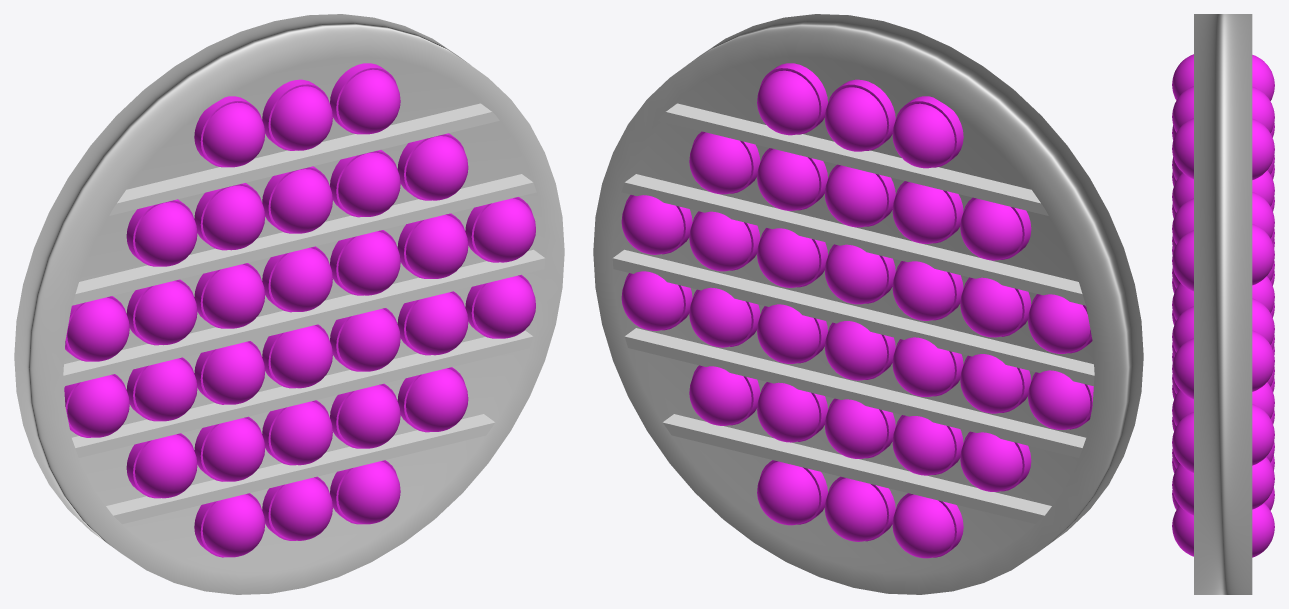
3 views of the same model, side by side, from view 1: azimuth 30°, elevation 25°; view 2: azimuth 150°, elevation 25°; view 3: azimuth 270°, elevation 25° (orthographic). The views are drawn at different scales.
Visible parts, largest first — view 1: Cylinder, Cube.023, Cube.024, Cube.026, Cube.025, Cube.027, Sphere.219, Sphere.225, Sphere.226, Sphere.222, Sphere.221, Sphere.220 (+27 smaller); view 2: Cylinder, Cube.026, Cube.024, Cube.023, Cube.027, Cube.025, Sphere.278, Sphere.277, Sphere.276, Sphere.250, Sphere.251, Sphere.249 (+27 smaller); view 3: Cylinder, Sphere.263, Sphere.270, Sphere.275, Sphere.278, Sphere.221, Sphere.226, Sphere.233, Sphere.240, Sphere.251, Sphere.256, Sphere.245 (+15 smaller).
Part boxes in pixels (box(x1,y1,x2,y2)): Cylinder: box(14, 14, 564, 594); Cube.023: box(63, 249, 545, 386); Cube.024: box(72, 174, 536, 305); Cube.026: box(72, 330, 533, 457); Cube.025: box(109, 103, 499, 215); Cube.027: box(106, 414, 495, 524); Sphere.219: box(270, 86, 332, 150); Sphere.225: box(135, 202, 197, 266); Sphere.226: box(406, 136, 468, 200); Sphere.222: box(270, 169, 332, 233); Sphere.221: box(338, 69, 400, 134); Sphere.220: box(202, 102, 264, 167); Cylinder: box(593, 14, 1143, 594); Cube.026: box(624, 328, 1085, 457); Cube.024: box(621, 174, 1085, 305); Cube.023: box(612, 249, 1094, 386); Cube.027: box(662, 414, 1051, 524); Cube.025: box(658, 103, 1048, 215); Sphere.278: box(757, 70, 819, 135); Sphere.277: box(892, 103, 954, 168); Sphere.276: box(825, 87, 887, 151); Sphere.250: box(892, 494, 954, 558); Sphere.251: box(757, 461, 819, 525); Sphere.249: box(824, 478, 887, 541); Cylinder: box(1194, 14, 1252, 594); Sphere.263: box(1252, 404, 1274, 465); Sphere.270: box(1252, 330, 1274, 391); Sphere.275: box(1252, 224, 1274, 285); Sphere.278: box(1252, 119, 1274, 179); Sphere.221: box(1172, 118, 1193, 179); Sphere.226: box(1172, 230, 1193, 291); Sphere.233: box(1172, 338, 1193, 399); Sphere.240: box(1172, 412, 1193, 472); Sphere.251: box(1252, 503, 1274, 557); Sphere.256: box(1252, 457, 1274, 509); Sphere.245: box(1172, 464, 1193, 515).
Size of the model in its own units: 23.05 by 23.05 by 4.08.
